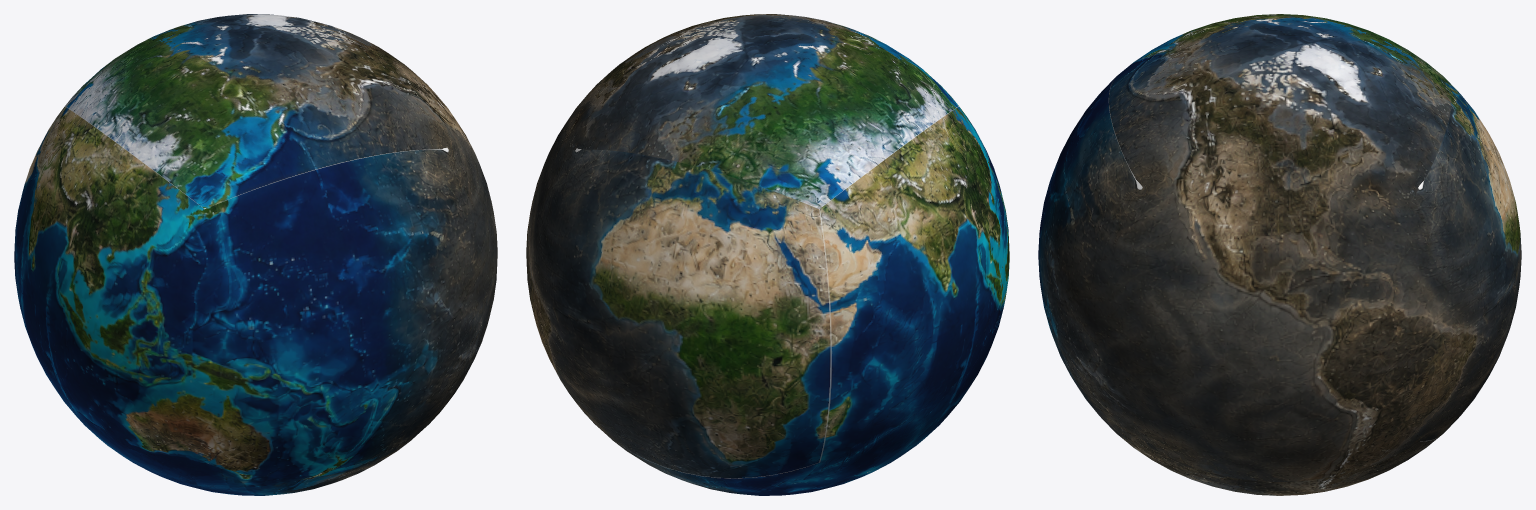
File: earthD.fbx
The picture shows the model from 3 angles, left to right: view 1: azimuth 30°, elevation 25°; view 2: azimuth 150°, elevation 25°; view 3: azimuth 270°, elevation 25°; orthographic projection.
Visible parts, largest first — view 1: Cube.001; view 2: Cube.001; view 3: Cube.001.
Boxes of the visible parts, x1,y1,x2,y2 form: Cube.001: [14, 14, 497, 495]; Cube.001: [526, 14, 1009, 495]; Cube.001: [1038, 14, 1521, 495].
Size of the model in its own units: 100000 by 99665 by 100000.
